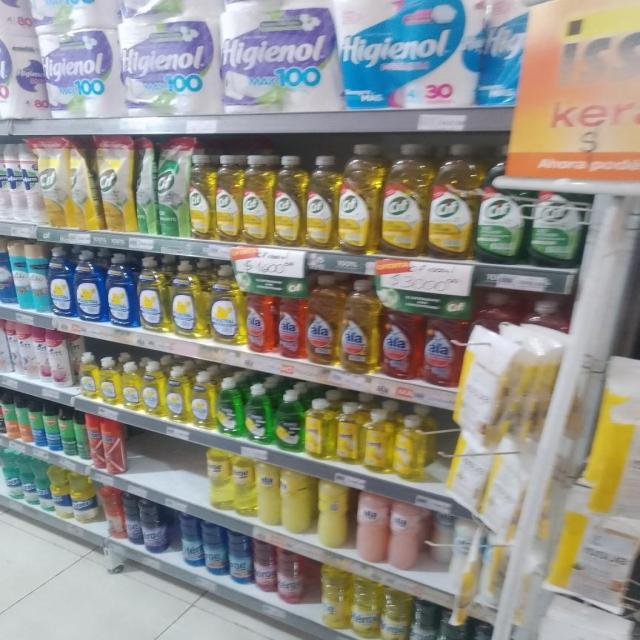ala_conc_amarillo: (340, 278, 379, 374), (306, 274, 338, 366)
ala_conc_rojo: (423, 289, 465, 388), (381, 285, 421, 380), (246, 270, 275, 354), (277, 274, 304, 359)
ala_crem_amarillo: (316, 480, 351, 550), (280, 468, 312, 535), (256, 461, 279, 527)
ala_crem_rosado: (388, 500, 422, 571), (355, 492, 387, 564)
cif_conc_bot_amarilla: (429, 142, 475, 260), (382, 144, 428, 258), (339, 144, 380, 255), (306, 154, 336, 250), (274, 154, 304, 248), (243, 154, 272, 244), (215, 154, 241, 243), (189, 154, 214, 242)
cif_conc_botella_verde: (530, 189, 590, 269), (478, 186, 526, 265)
cif_conc_sachet_amarillo: (96, 135, 134, 233), (38, 136, 68, 229)
heroe: (362, 409, 393, 474), (206, 448, 232, 512), (335, 402, 361, 465), (232, 454, 255, 517)
magistral_con_amarillo: (170, 259, 207, 339), (209, 264, 244, 346), (137, 256, 168, 332), (190, 370, 214, 430), (165, 366, 188, 424), (142, 362, 164, 416), (100, 356, 120, 406), (78, 352, 98, 400), (122, 361, 141, 411)
magistral_con_azul: (105, 253, 136, 328), (75, 248, 104, 322), (48, 246, 73, 318)
